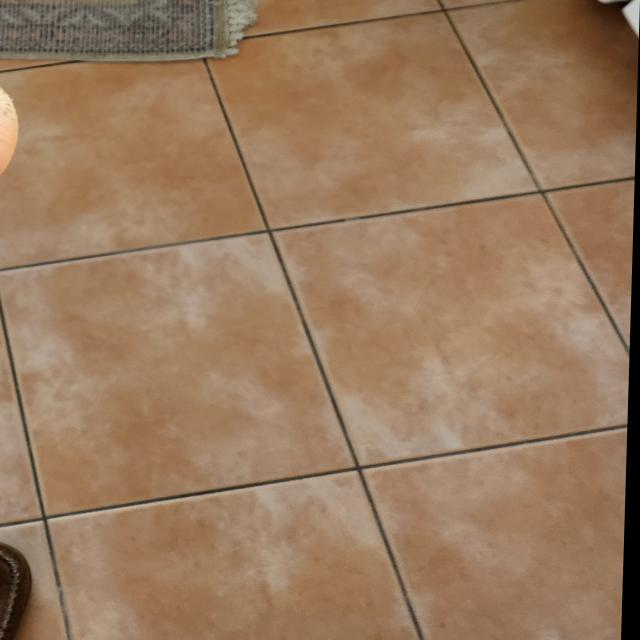brown onion: (0, 48, 25, 212)
